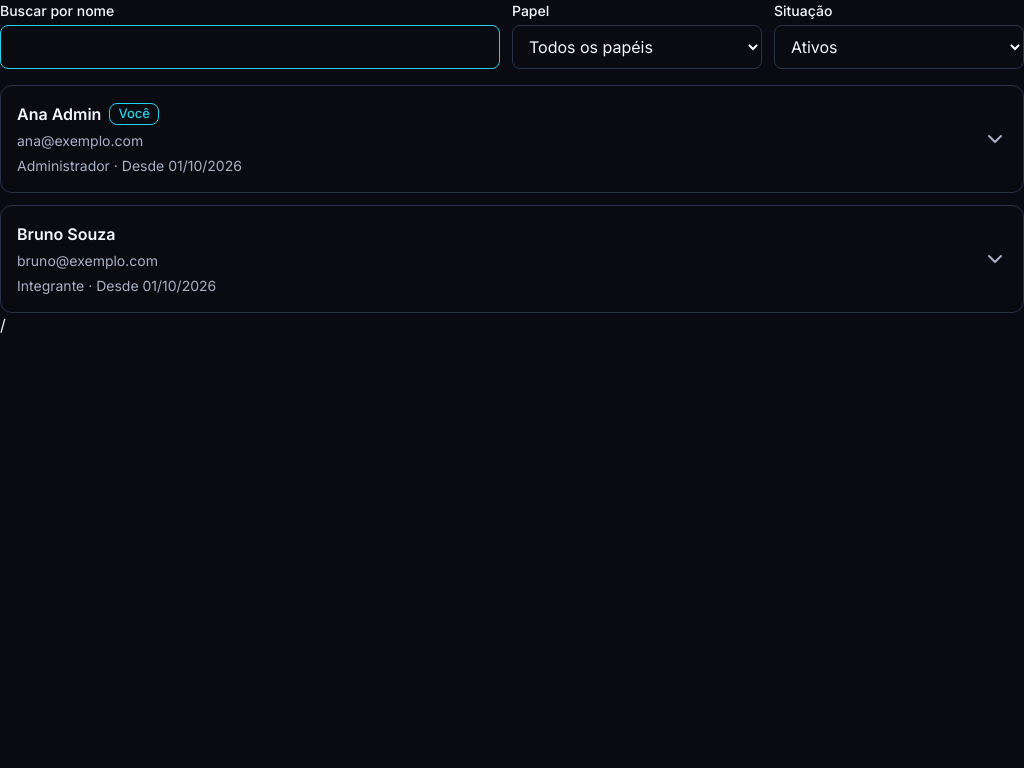
Test case: MembersPanel (FAM-003) › Editar cargo abre um modal com as tres opcoes e o cargo atual marcado
This screenshot has width=1024, height=768.
Click the button "Bruno Souza bruno@exemplo.com Integrante · Desde 01/10/2026" at (66, 234), box [0,205,1023,313]
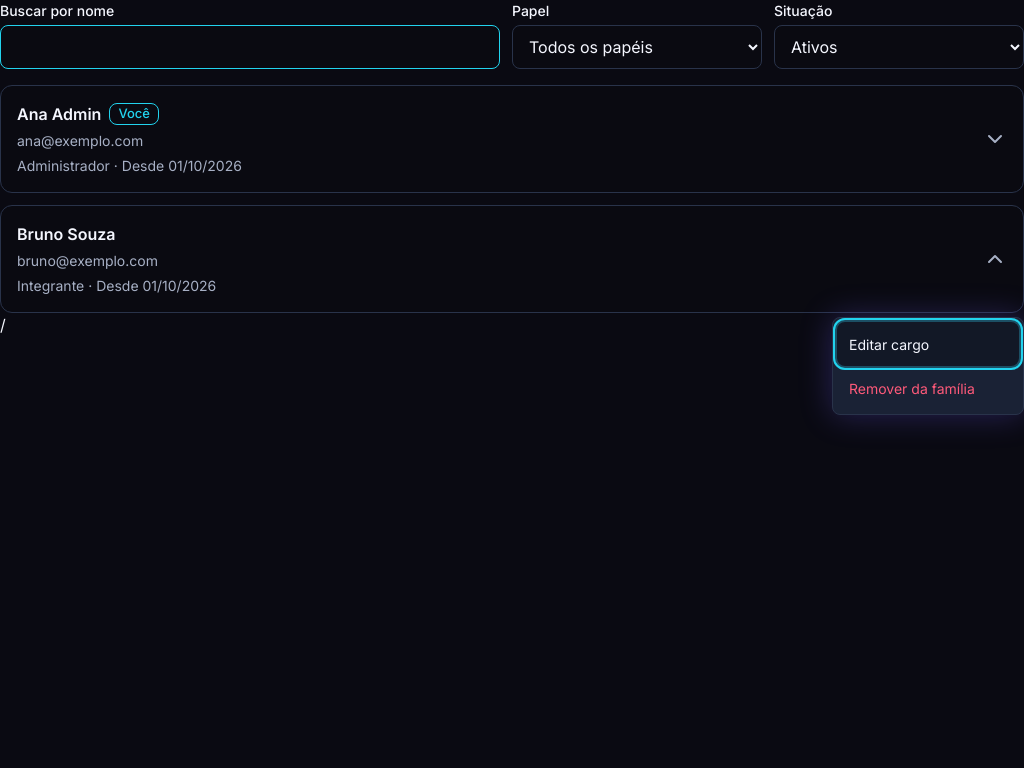
Click the menu item "Editar cargo" at (928, 344), box [837,322,1019,366]
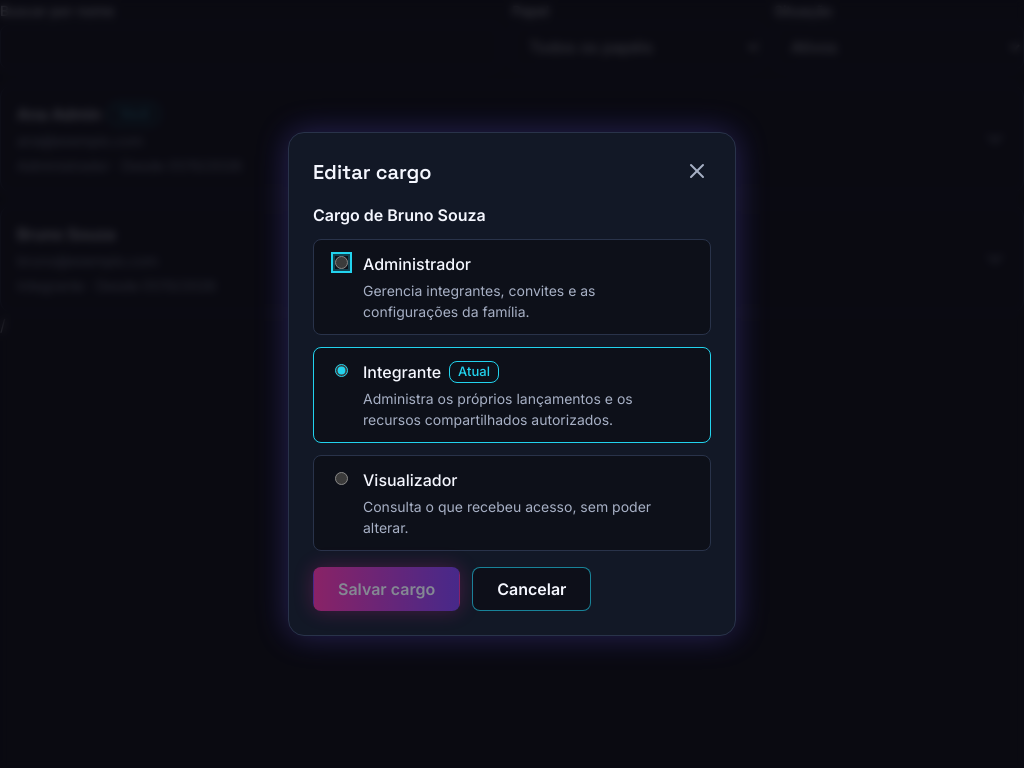
Expected: the radio button labelled "Integrante" is checked, [335,364,348,377]
Expected: the text "Atual" is shown, [449,361,499,383]
Expected: the button "Salvar cargo" is disabled, [313,567,460,611]
